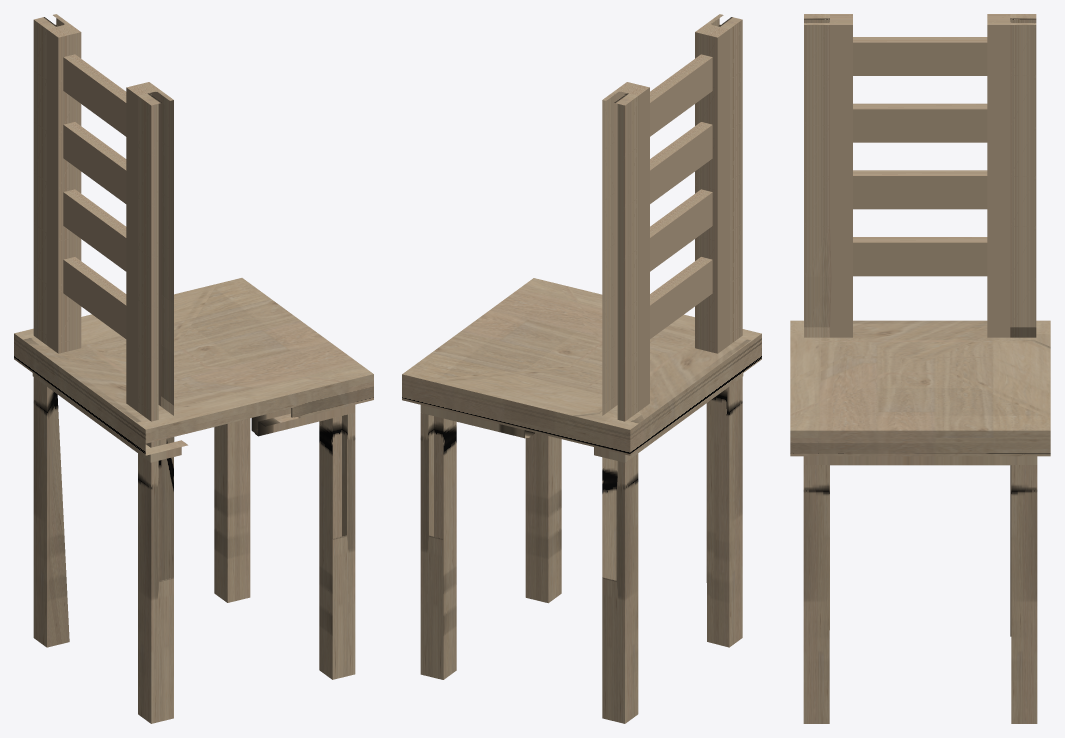
Rendered from Silla.fbx.
3 views of the same model, side by side, from view 1: azimuth 30°, elevation 25°; view 2: azimuth 150°, elevation 25°; view 3: azimuth 270°, elevation 25° (orthographic).
Visible parts, largest first — view 1: Patas.001; view 2: Patas.001; view 3: Patas.001.
Part boxes in pixels (box(x1,y1,x2,y2)): Patas.001: box(14, 14, 373, 723); Patas.001: box(402, 14, 761, 723); Patas.001: box(790, 14, 1050, 723).
Bounding box in the file's own units: 200 × 518 × 200.
